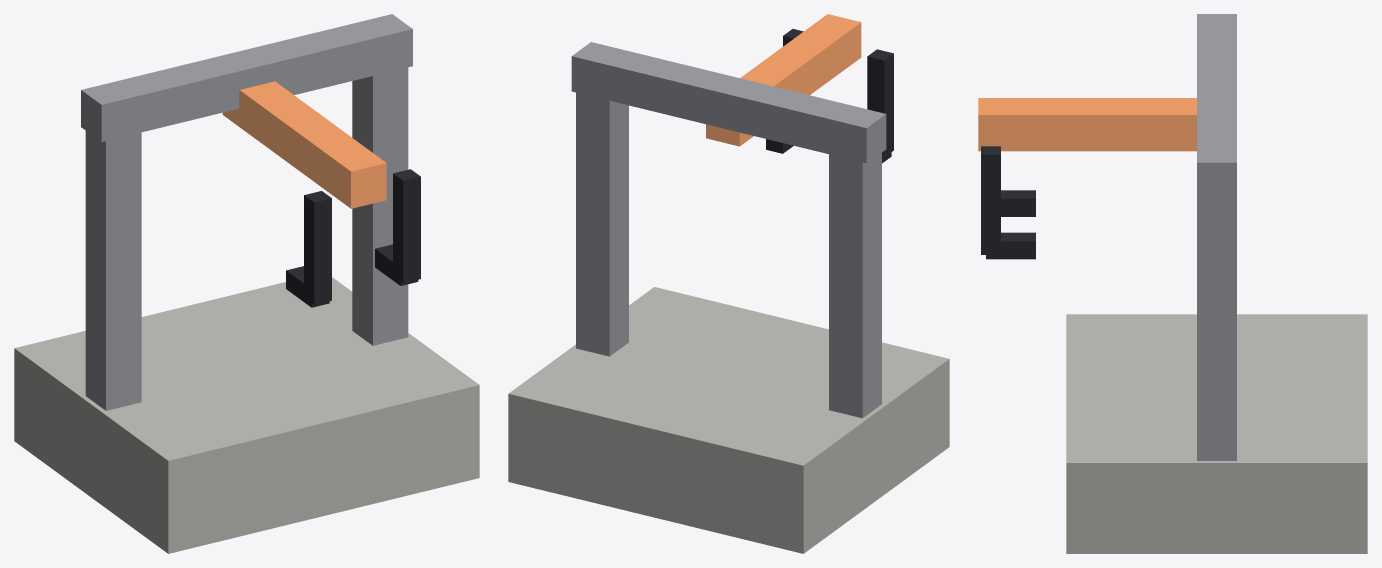
Rendered from build_rail_lifter.glb.
The picture shows the model from 3 angles, left to right: view 1: azimuth 30°, elevation 25°; view 2: azimuth 150°, elevation 25°; view 3: azimuth 270°, elevation 25°; orthographic projection. The views are drawn at different scales.
Parts seen in each view (by area): view 1: Baked, _MeshInstance3D_653, _MeshInstance3D_656, _MeshInstance3D_654, _MeshInstance3D_655, _MeshInstance3D_657; view 2: Baked, _MeshInstance3D_653, _MeshInstance3D_654; view 3: Baked, _MeshInstance3D_653, _MeshInstance3D_656, _MeshInstance3D_657, _MeshInstance3D_655.
Boxes of the visible parts, <box> form: Baked: <box>14,14,479,553</box>; _MeshInstance3D_653: <box>222,81,386,208</box>; _MeshInstance3D_656: <box>393,169,420,283</box>; _MeshInstance3D_654: <box>304,191,331,304</box>; _MeshInstance3D_655: <box>286,266,329,307</box>; _MeshInstance3D_657: <box>375,244,418,285</box>; Baked: <box>508,42,949,553</box>; _MeshInstance3D_653: <box>706,14,861,146</box>; _MeshInstance3D_654: <box>867,49,893,153</box>; Baked: <box>1066,14,1367,553</box>; _MeshInstance3D_653: <box>978,98,1196,151</box>; _MeshInstance3D_656: <box>981,146,1000,254</box>; _MeshInstance3D_657: <box>986,232,1035,259</box>; _MeshInstance3D_655: <box>1001,190,1035,216</box>.
Size of the model in its own units: 0.7 by 0.86 by 0.775.
